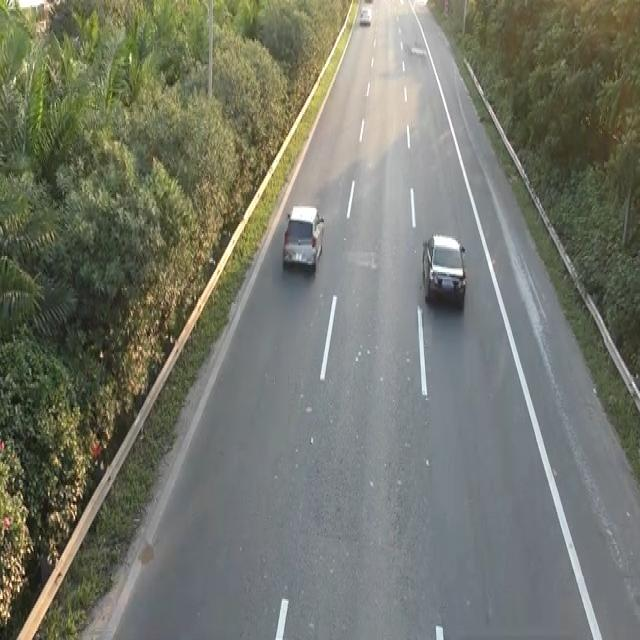bus: (279, 201, 327, 281), (420, 230, 468, 310)
